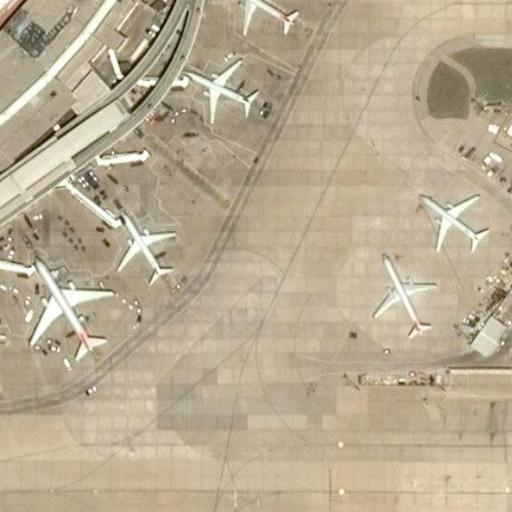Aircraft: (30, 262, 109, 358), (370, 253, 437, 340), (417, 189, 489, 258), (114, 215, 174, 287), (183, 60, 261, 115), (214, 0, 307, 36), (0, 314, 5, 383)
